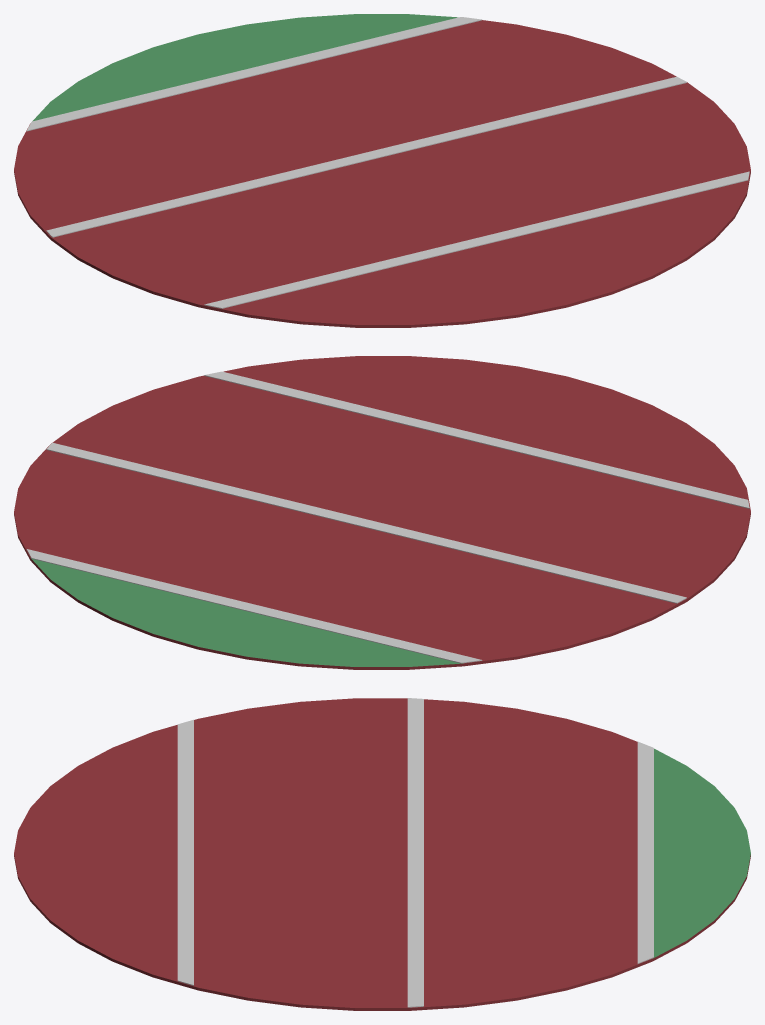
The model's file is Environment-Ep3.fbx.
3 renders of one model, top to bottom at view 1: azimuth 30°, elevation 25°; view 2: azimuth 150°, elevation 25°; view 3: azimuth 270°, elevation 25°, orthographic.
Parts seen in each view (by area): view 1: RunningTrack; view 2: RunningTrack; view 3: RunningTrack.
Boxes of the visible parts, box(x1,y1,x2,y2) form: RunningTrack: box(14, 14, 750, 327); RunningTrack: box(14, 356, 750, 669); RunningTrack: box(14, 698, 750, 1010).
Size of the model in its own units: 6018 by 32.59 by 6051.
